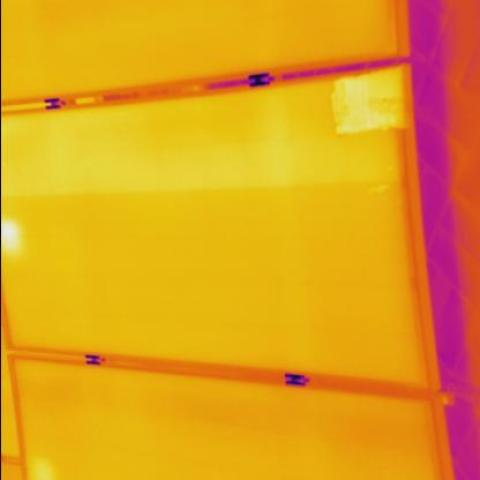fault: (335, 75, 407, 131), (2, 217, 17, 250)
